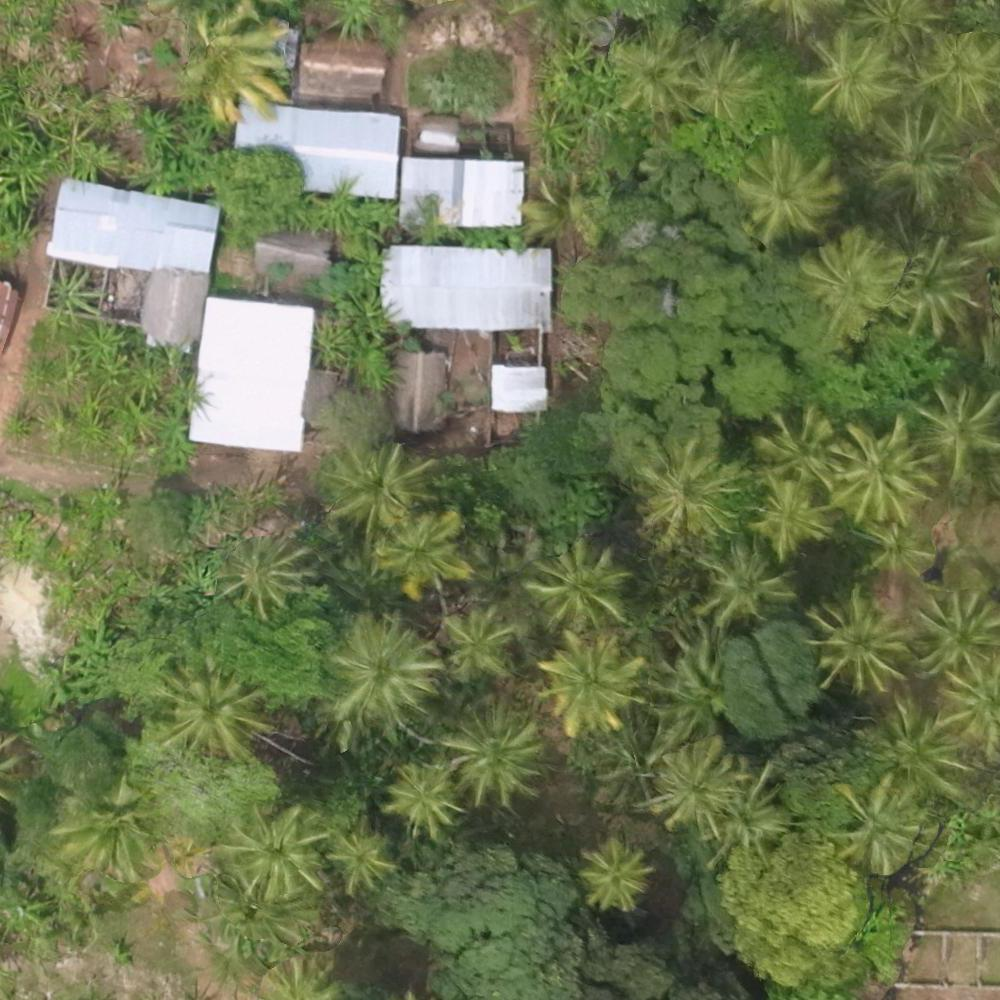not palm: (605, 311, 688, 395), (693, 321, 766, 399), (442, 866, 524, 933), (422, 932, 504, 998), (618, 244, 699, 309), (736, 931, 809, 1000), (513, 936, 591, 996), (812, 928, 879, 996), (442, 362, 511, 428), (736, 656, 800, 726), (435, 40, 501, 107), (424, 266, 493, 330), (219, 316, 285, 381), (503, 279, 569, 344), (432, 116, 496, 183), (122, 216, 192, 277), (484, 441, 549, 506), (331, 98, 396, 161)
